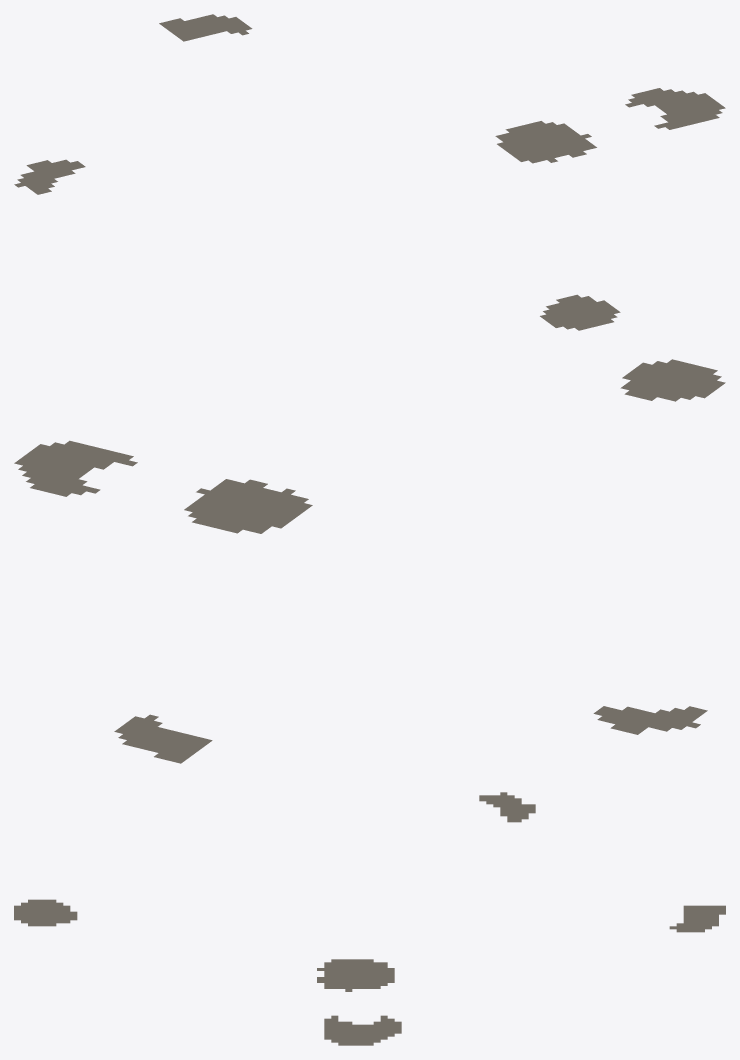
File: Isl-start2-RocksArea.fbx
The picture shows the model from 3 angles, top to bottom: view 1: azimuth 30°, elevation 25°; view 2: azimuth 150°, elevation 25°; view 3: azimuth 270°, elevation 25°; orthographic projection. The views are drawn at different scales.
Visible parts, largest first — view 1: Isl-start2-RocksArea; view 2: Isl-start2-RocksArea; view 3: Isl-start2-RocksArea.
Boxes of the visible parts, x1=… form: Isl-start2-RocksArea: x1=14, y1=14, x2=725, y2=330; Isl-start2-RocksArea: x1=14, y1=359, x2=725, y2=763; Isl-start2-RocksArea: x1=14, y1=792, x2=725, y2=1045.
Bounding box in the file's own units: 85 × 0 × 101.
